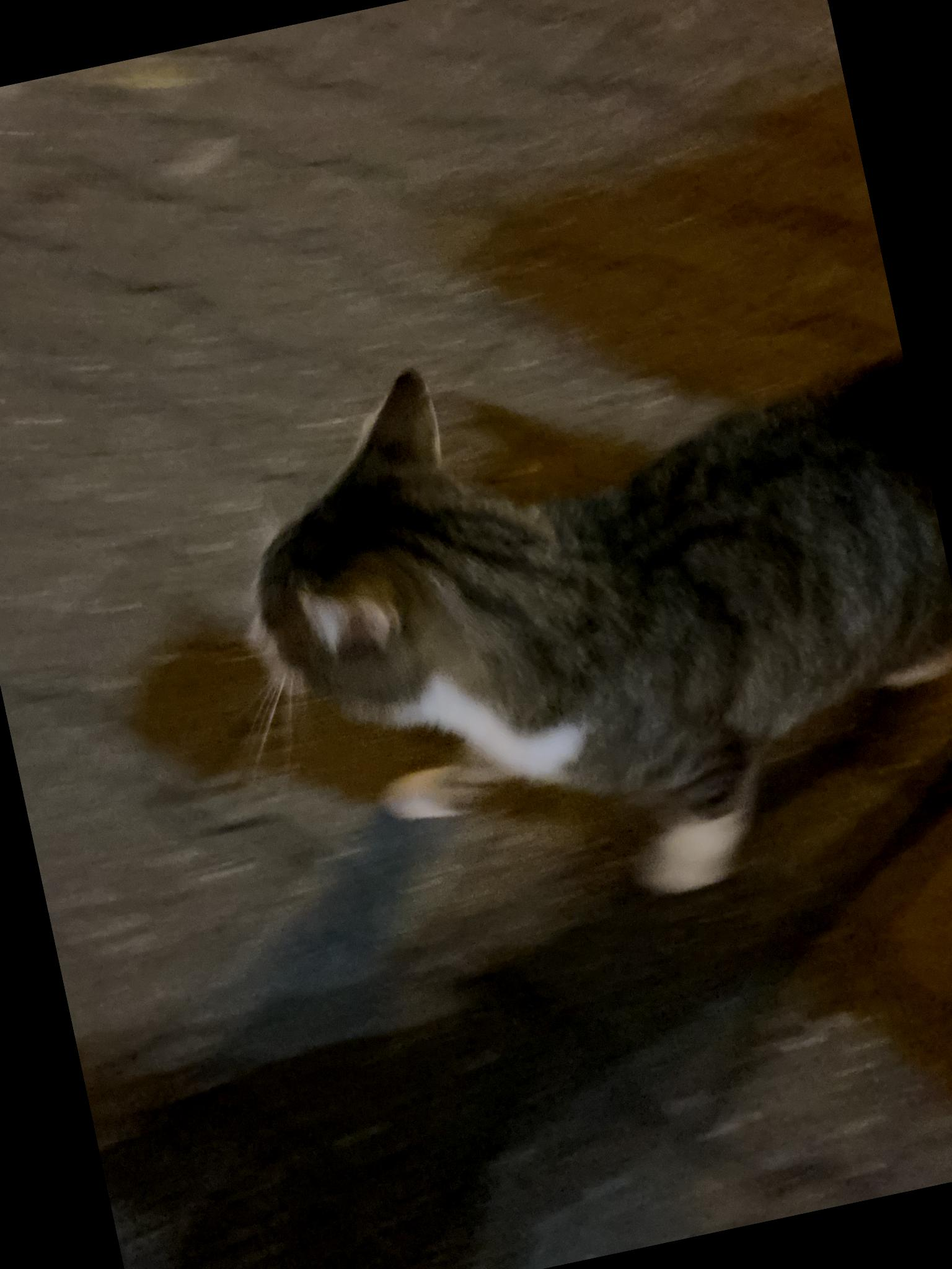macka: (199, 264, 952, 969)
